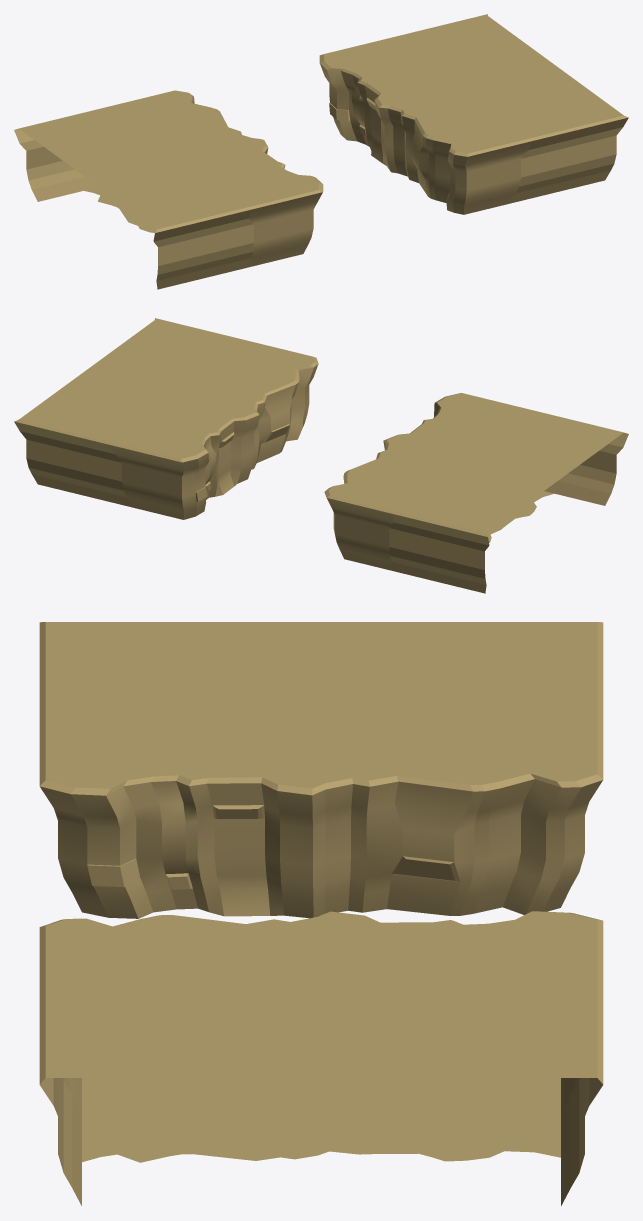
File: Cliffs_kleur.fbx
3 renders of one model, top to bottom at view 1: azimuth 30°, elevation 25°; view 2: azimuth 150°, elevation 25°; view 3: azimuth 270°, elevation 25°, orthographic. The views are drawn at different scales.
Parts seen in each view (by area): view 1: pPlane2, pPlane1; view 2: pPlane2, pPlane1; view 3: pPlane1, pPlane2.
Part boxes in pixels (left/top/right/bottom): pPlane2: left=319, top=14, right=628, bottom=214; pPlane1: left=14, top=90, right=323, bottom=289; pPlane2: left=14, top=318, right=318, bottom=519; pPlane1: left=324, top=393, right=628, bottom=593; pPlane1: left=39, top=622, right=603, bottom=918; pPlane2: left=39, top=911, right=603, bottom=1205.
Size of the model in its own units: 83.38 by 11.64 by 42.95.
